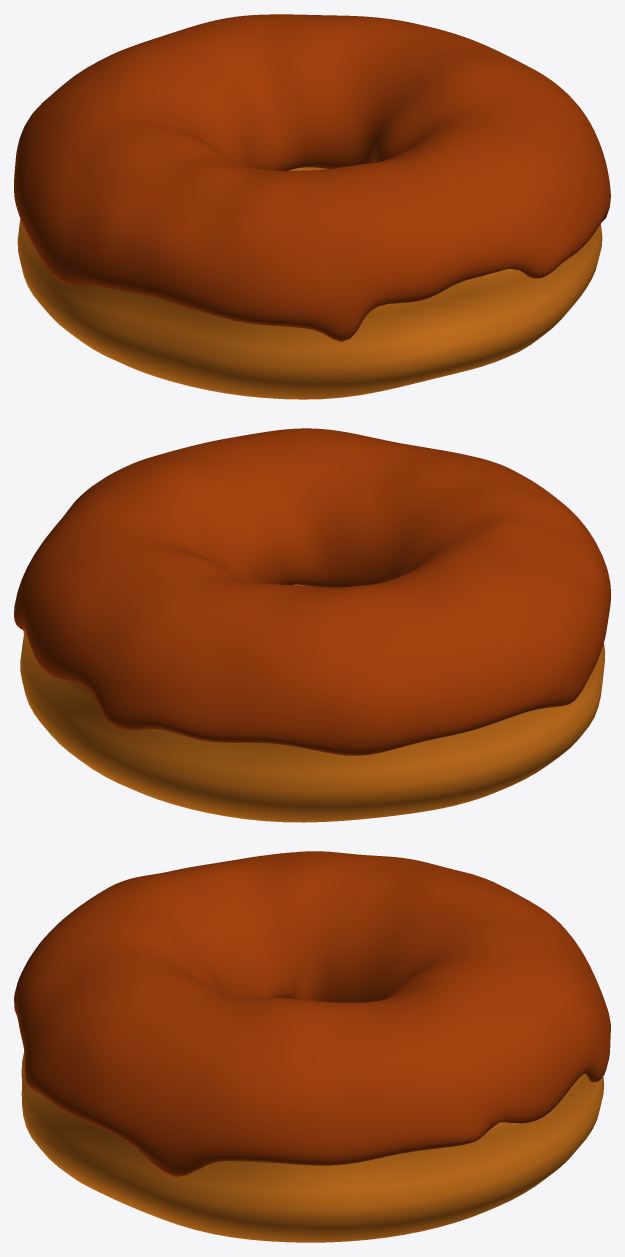
Rendered from donut.glb.
The picture shows the model from 3 angles, top to bottom: view 1: azimuth 30°, elevation 25°; view 2: azimuth 150°, elevation 25°; view 3: azimuth 270°, elevation 25°; orthographic projection.
Visible parts, largest first — view 1: Torus.001, Torus; view 2: Torus.001, Torus; view 3: Torus.001, Torus.
Boxes of the visible parts, <box> form: Torus.001: <box>14,14,610,342</box>; Torus: <box>17,167,602,399</box>; Torus.001: <box>14,428,610,755</box>; Torus: <box>20,584,605,822</box>; Torus.001: <box>14,851,610,1177</box>; Torus: <box>21,1052,604,1242</box>.
Size of what is drawn, in the model's own units: 0.9716 by 0.385 by 0.9602.
